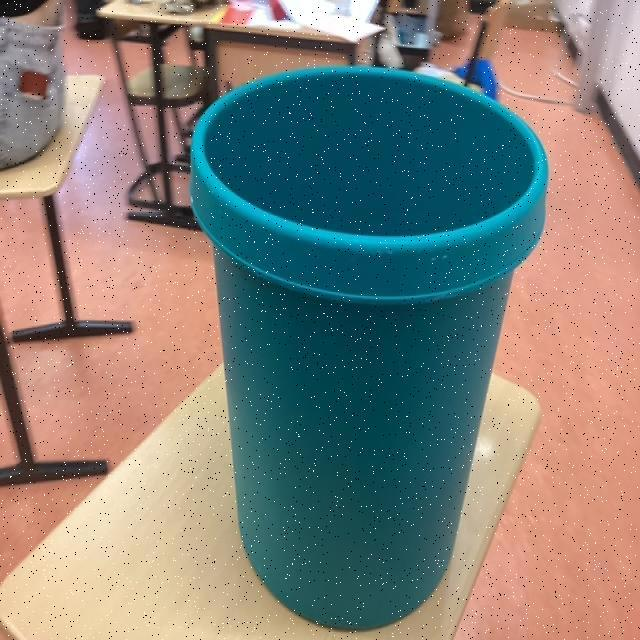garbage container: (169, 52, 553, 633)
